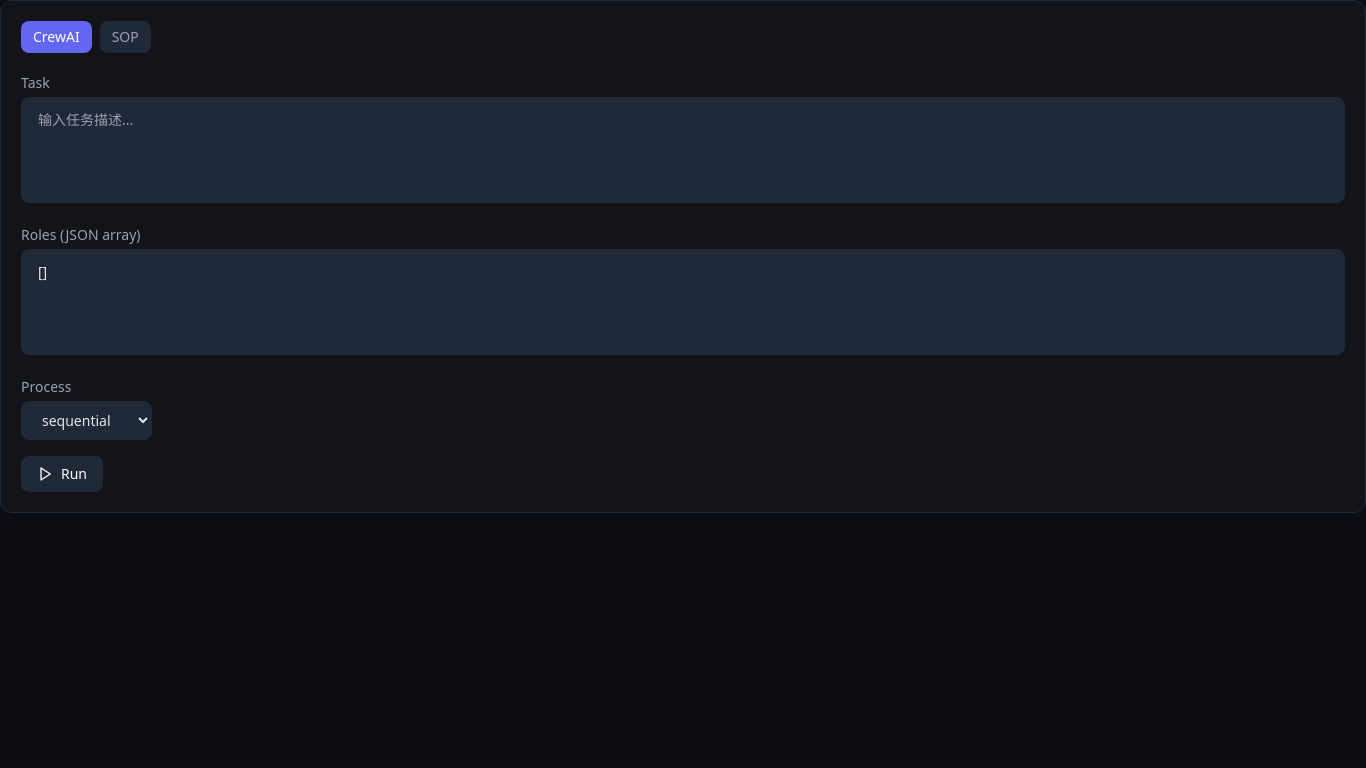
Test: WorkflowStudio › runs CrewAI and displays result
This screenshot has width=1366, height=768.
Type "do research" into the text box with placeholder "输入任务描述..." at coordinates (683, 150), box [21,97,1345,203]
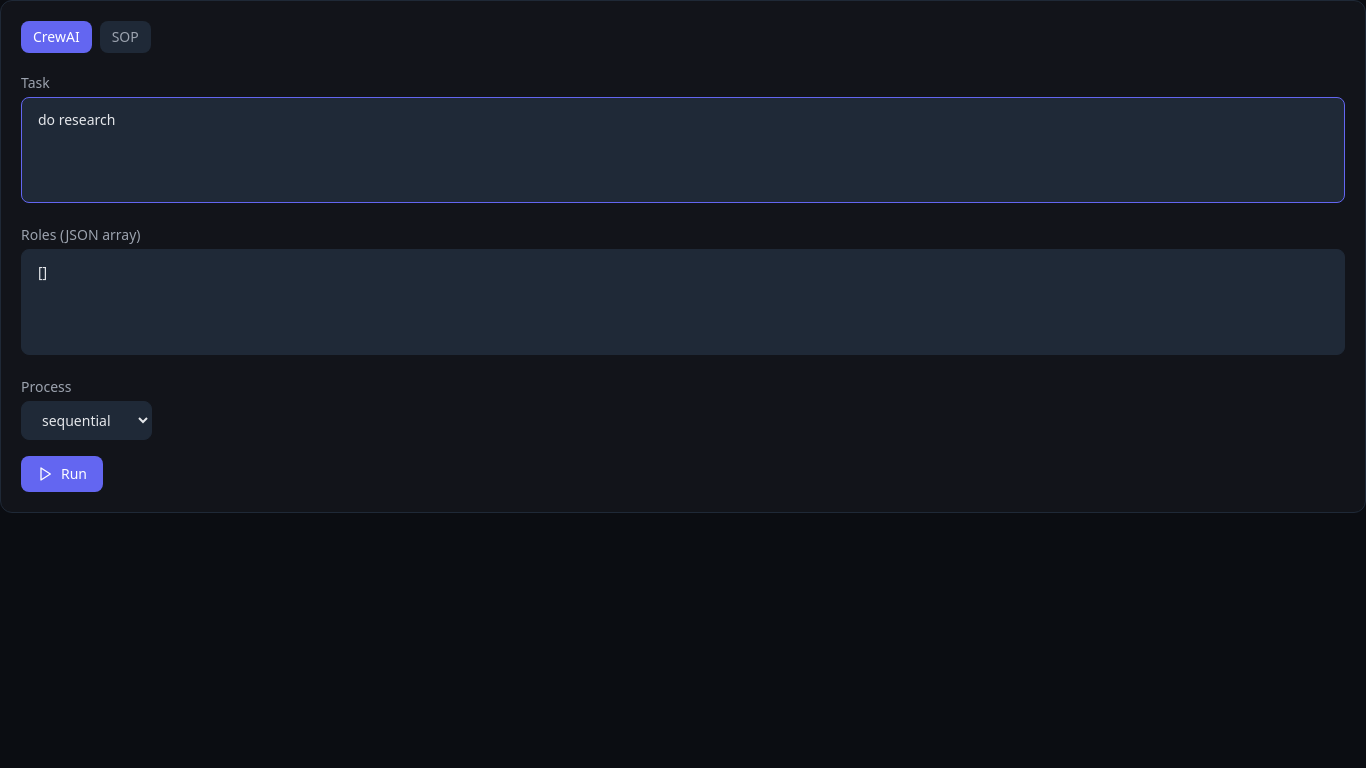
Click the button "Run" at coordinates (62, 474), box [21,456,103,492]
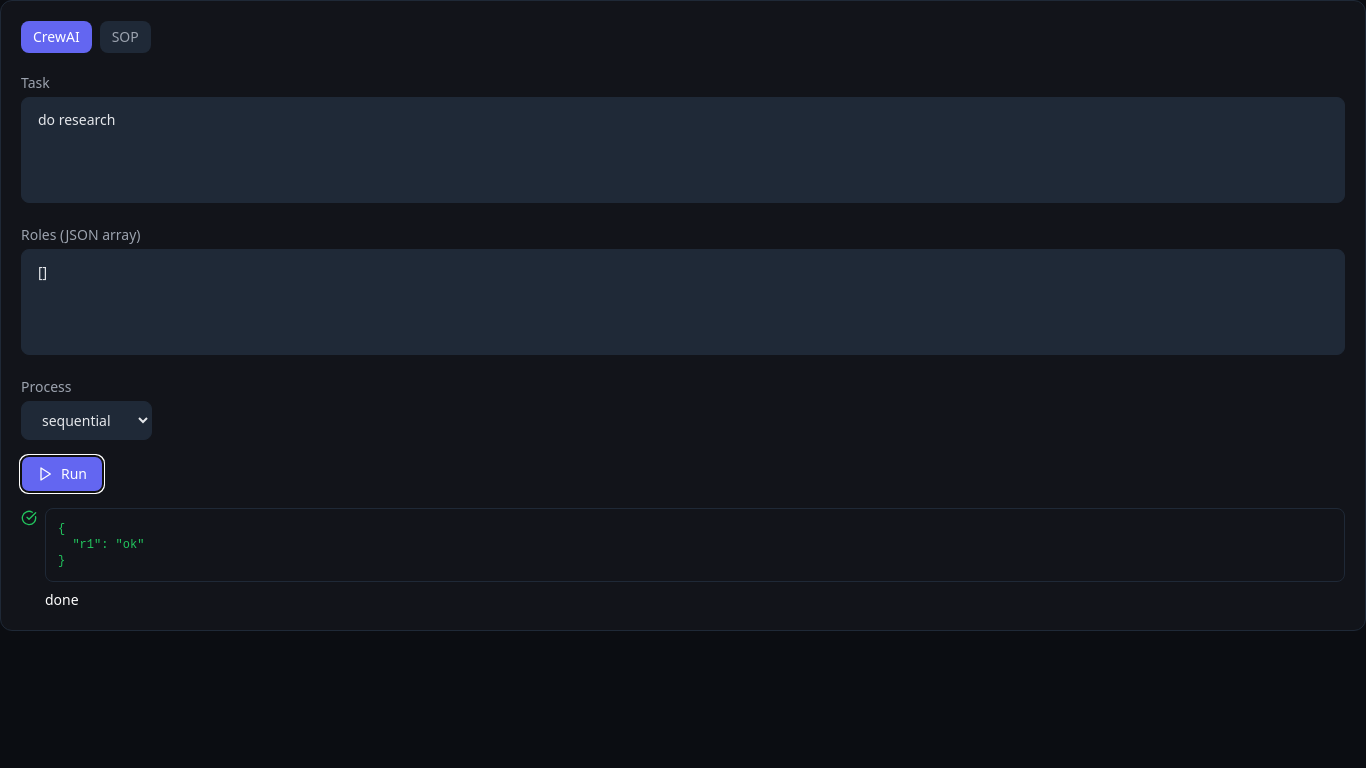
expect the text "done" is shown: met, box [45,590,79,609]
